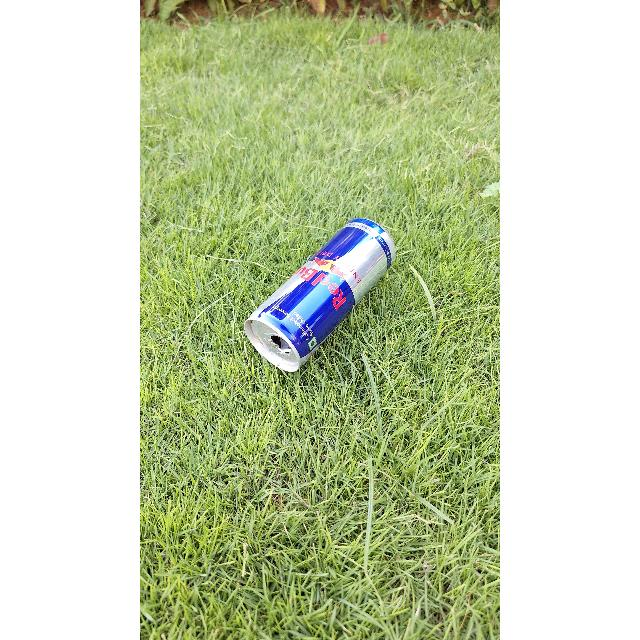Redbull: (240, 219, 394, 367)
